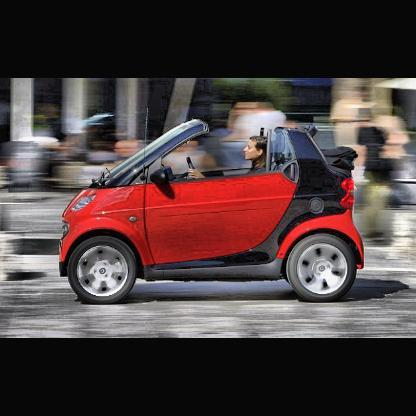smart fortwo Convertible 2012: (61, 117, 366, 304)
